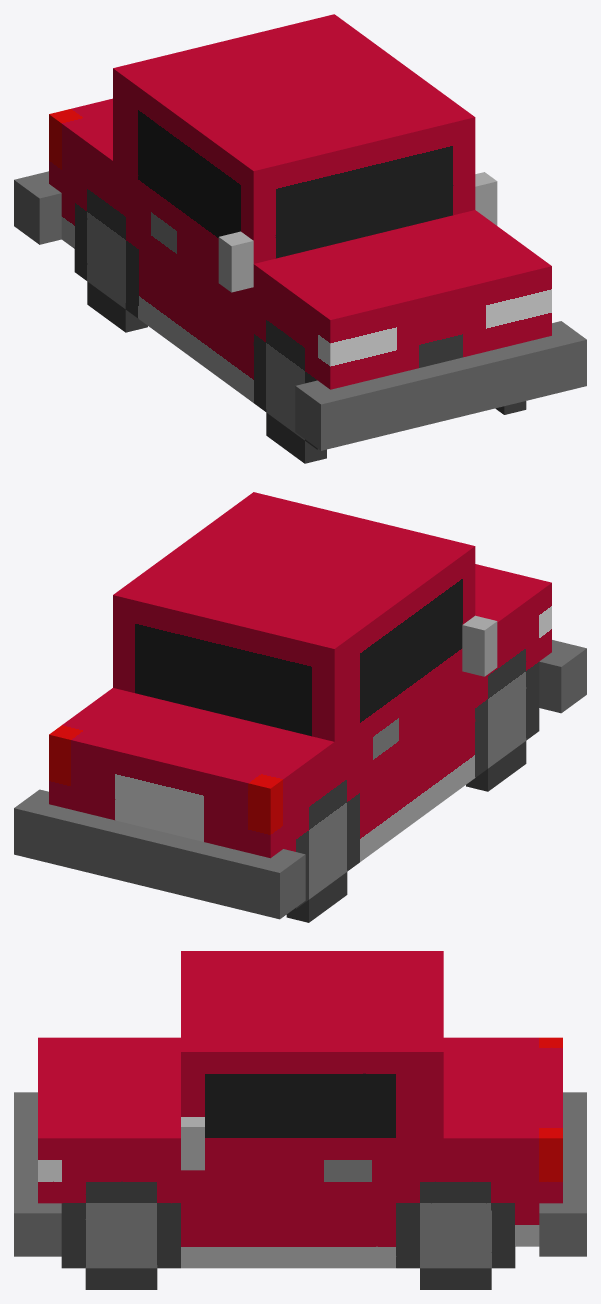
The model's file is veh_mini1.dae.
The picture shows the model from 3 angles, top to bottom: view 1: azimuth 30°, elevation 25°; view 2: azimuth 150°, elevation 25°; view 3: azimuth 270°, elevation 25°; orthographic projection. The views are drawn at different scales.
Visible parts, largest first — view 1: veh_mini1; view 2: veh_mini1; view 3: veh_mini1.
Part boxes in pixels (x1=…): veh_mini1: x1=14, y1=14, x2=586, y2=463; veh_mini1: x1=14, y1=492, x2=586, y2=922; veh_mini1: x1=14, y1=951, x2=586, y2=1289.
Bounding box in the file's own units: 1.2 × 2.4 × 1.1.
Materials: 1 (1 with a texture image).
